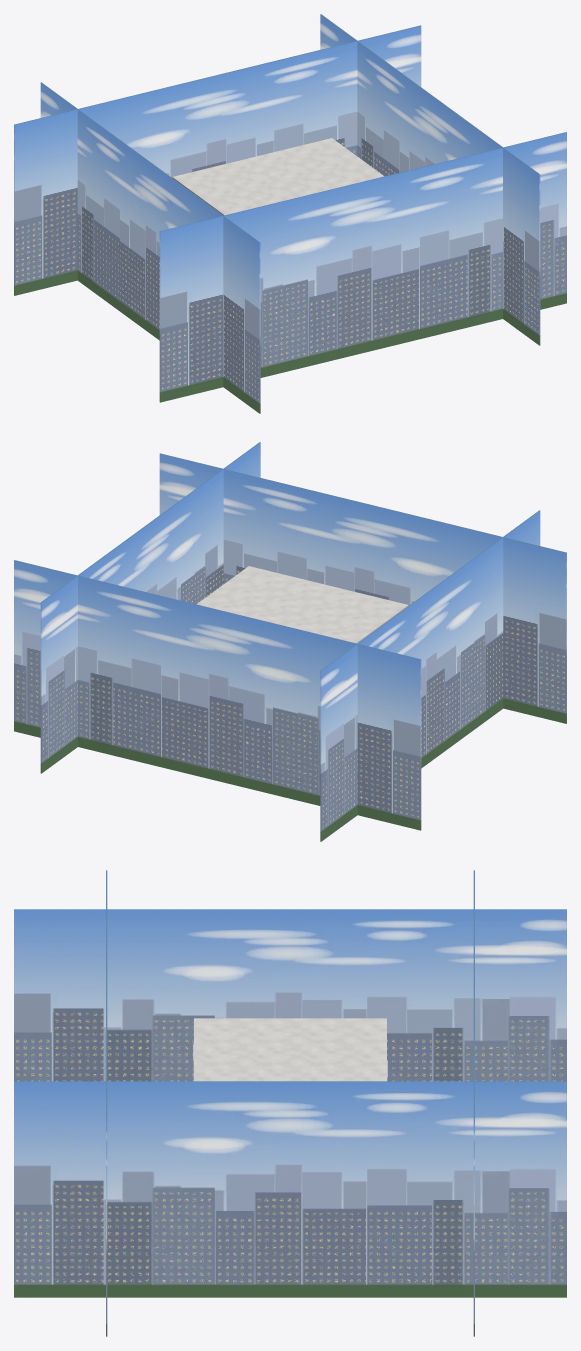
The model's file is interior.glb.
3 views of the same model, one above another, from view 1: azimuth 30°, elevation 25°; view 2: azimuth 150°, elevation 25°; view 3: azimuth 270°, elevation 25° (orthographic). The views are drawn at different scales.
Visible parts, largest first — view 1: Sky_Front, Sky_Back, Sky_West, Sky_East, Ceiling; view 2: Sky_Back, Sky_Front, Sky_West, Sky_East, Ceiling; view 3: Sky_East, Sky_West, Ceiling, Sky_Back, Sky_Front.
Part boxes in pixels (<box>): Sky_Front: <box>159,132,566,402</box>; Sky_Back: <box>14,25,421,295</box>; Sky_West: <box>40,82,260,413</box>; Sky_East: <box>320,14,540,345</box>; Ceiling: <box>172,138,384,215</box>; Sky_Back: <box>14,560,421,830</box>; Sky_Front: <box>159,453,566,723</box>; Sky_West: <box>320,510,540,841</box>; Sky_East: <box>40,442,260,773</box>; Ceiling: <box>197,566,408,643</box>; Sky_East: <box>14,1081,566,1297</box>; Sky_West: <box>14,909,566,1081</box>; Ceiling: <box>194,1018,386,1081</box>; Sky_Back: <box>473,870,474,1336</box>; Sky_Front: <box>106,870,107,1336</box>.
Size of the model in its own units: 22.4 by 9 by 20.9.
19 materials, 19 textured.
